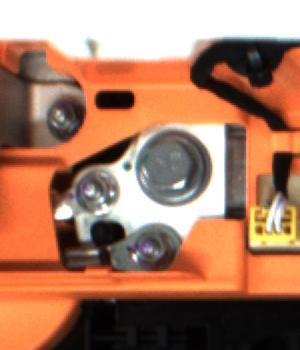nut_b: (134, 125, 215, 209)
